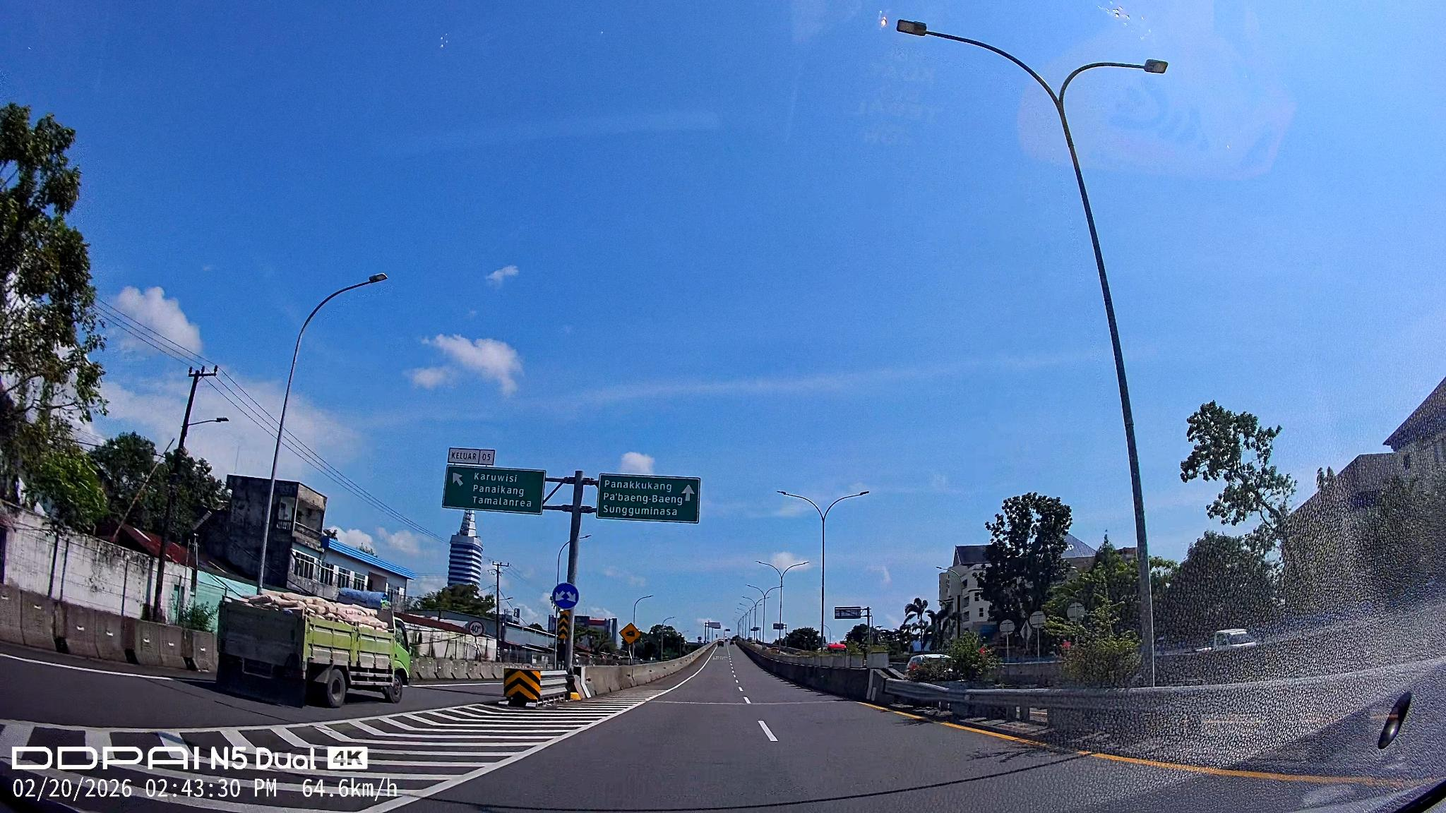rambu_teks: (596, 473, 701, 525), (442, 464, 547, 516)
